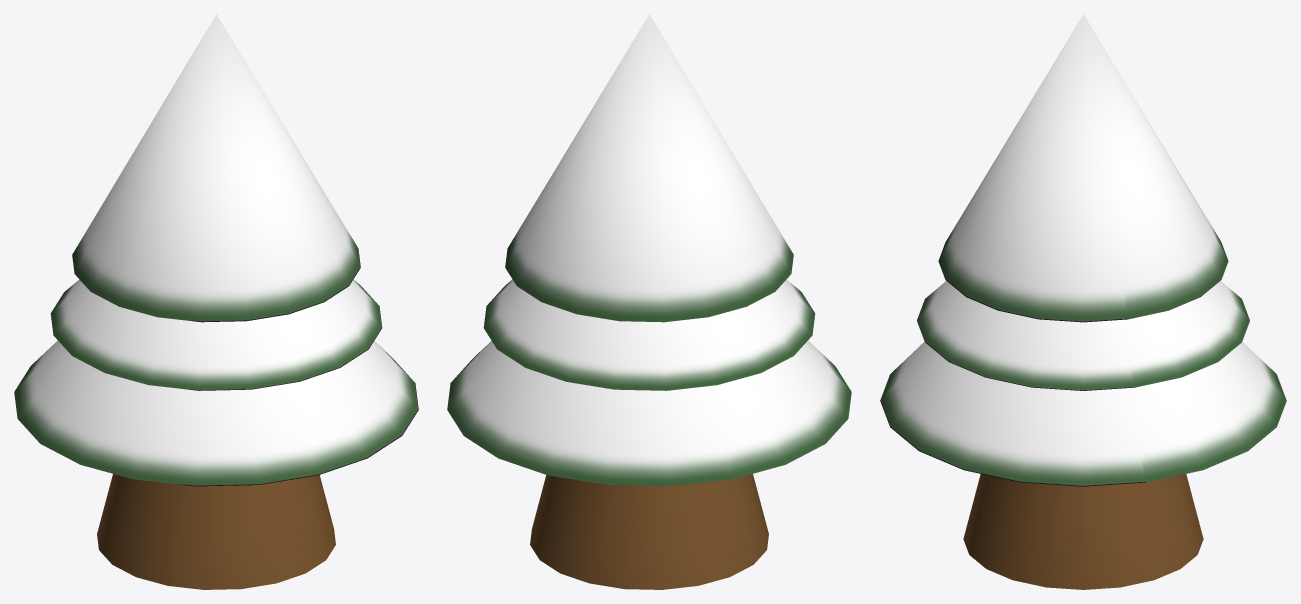
File: snow_tree1.fbx
3 renders of one model, left to right at view 1: azimuth 30°, elevation 25°; view 2: azimuth 150°, elevation 25°; view 3: azimuth 270°, elevation 25°, orthographic.
Visible parts, largest first — view 1: polySurface155, polySurface152; view 2: polySurface155, polySurface152; view 3: polySurface155, polySurface152.
Boxes of the visible parts, bbox=[...] form: polySurface155: bbox=[14, 14, 418, 486]; polySurface152: bbox=[97, 474, 335, 589]; polySurface155: bbox=[447, 14, 851, 486]; polySurface152: bbox=[530, 474, 768, 589]; polySurface155: bbox=[880, 14, 1286, 486]; polySurface152: bbox=[963, 474, 1203, 589].
Size of the model in its own units: 0.7744 by 1.1 by 0.7744.
